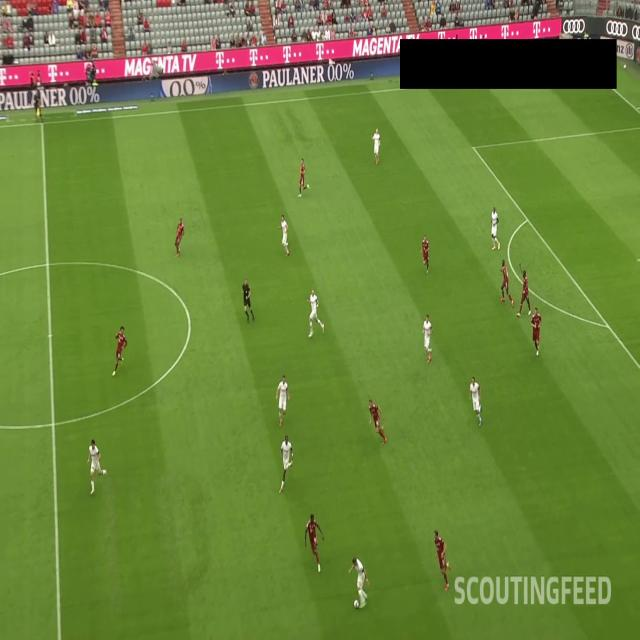ball: (352, 598, 360, 611)
player: (301, 510, 326, 575), (85, 438, 109, 498), (432, 525, 453, 593), (348, 554, 370, 614), (304, 286, 326, 338), (278, 433, 296, 496), (367, 396, 387, 449), (465, 372, 484, 426), (498, 256, 515, 310), (515, 262, 532, 316), (527, 303, 544, 356), (419, 310, 435, 366), (111, 322, 126, 378), (275, 373, 291, 425), (294, 155, 311, 199), (488, 202, 502, 253), (418, 229, 432, 277), (278, 214, 292, 258), (368, 124, 382, 167), (174, 217, 186, 260)
referee: (239, 275, 256, 329), (30, 92, 45, 125)
